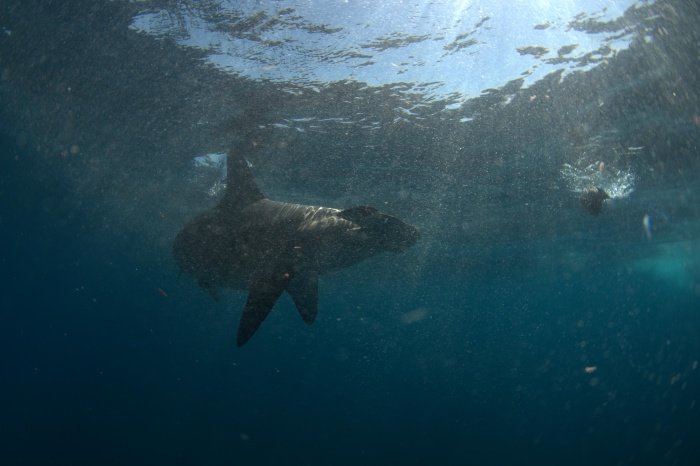Hammer: (139, 115, 449, 357)
